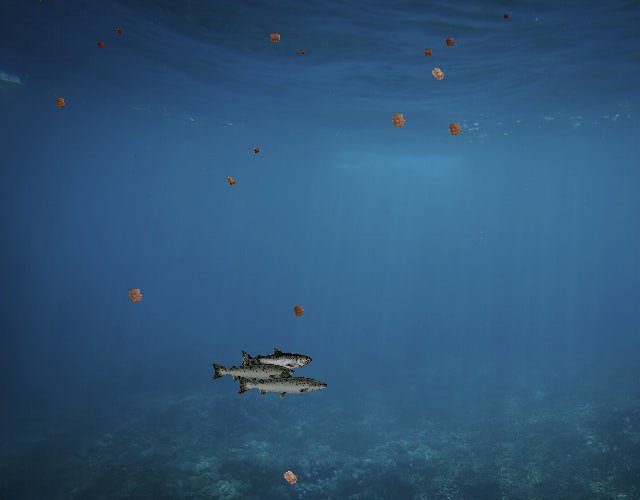Fish: (235, 368, 329, 402), (210, 355, 296, 386), (240, 348, 313, 374)
Pellet: (276, 463, 304, 491), (121, 281, 149, 309), (424, 61, 451, 88), (442, 116, 468, 142), (288, 300, 310, 322), (222, 172, 240, 190), (250, 145, 262, 157)
